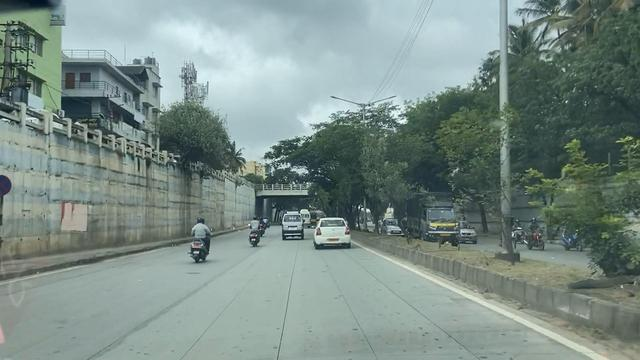LMV: (311, 216, 353, 250), (187, 214, 213, 264)
